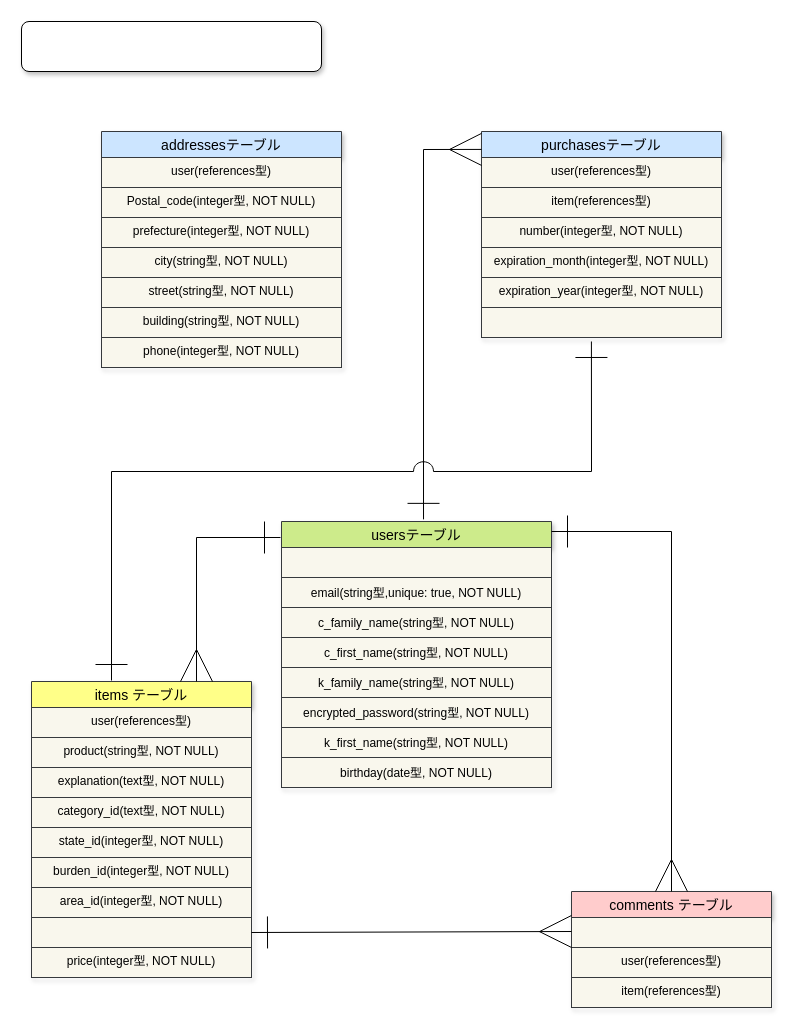
This 795x1032 diagram has some shape labels left out. Here are the shapes that lost their labels. From the top down, the centre of each, then its label:
At (x=172, y=47): "furima-36253のER図".
At (x=601, y=322): "security_code(integer型, NOT NULL)".
At (x=416, y=562): "nickname(string型, NOT NULL)".
At (x=141, y=932): "day_id(integer型, NOT NULL)".
At (x=671, y=932): "text(text型, NOT NULL)".
